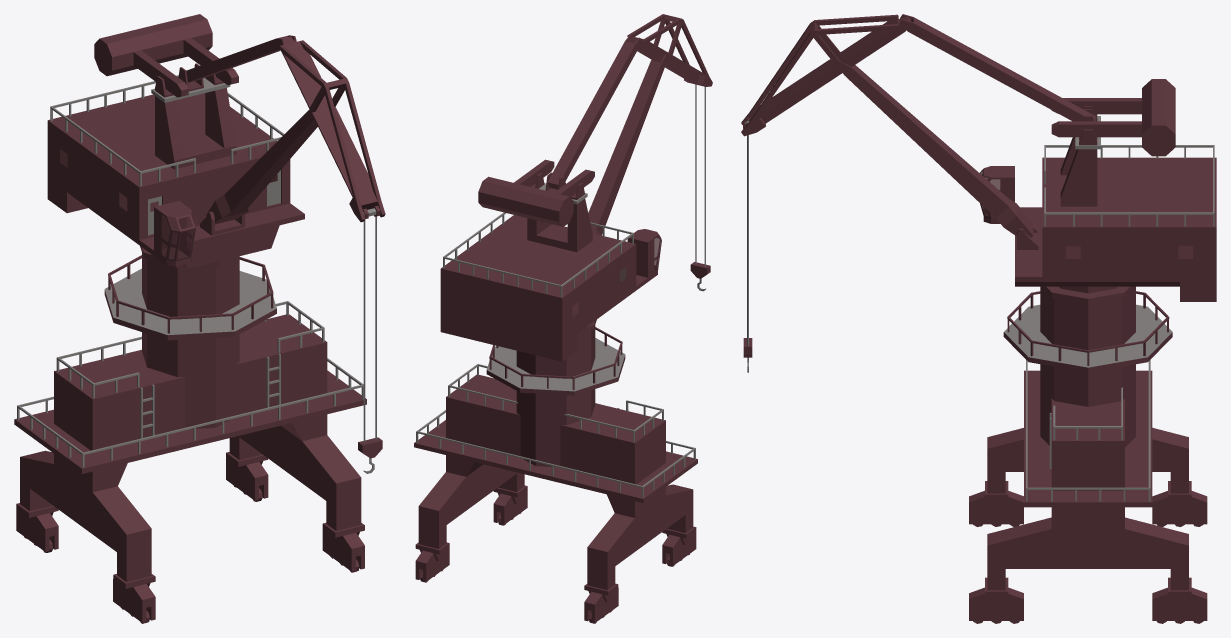
Rendered from crane-docks.fbx.
The picture shows the model from 3 angles, left to right: view 1: azimuth 30°, elevation 25°; view 2: azimuth 150°, elevation 25°; view 3: azimuth 270°, elevation 25°; orthographic projection. The views are drawn at different scales.
Visible parts, largest first — view 1: crane-docks-base, crane-docks-top, crane-docks-arm-tip, crane-docks-arm-main, crane-docks-hook, crane-docks-arm-back; view 2: crane-docks-base, crane-docks-top, crane-docks-arm-main, crane-docks-arm-back, crane-docks-arm-tip, crane-docks-hook; view 3: crane-docks-base, crane-docks-top, crane-docks-arm-tip, crane-docks-arm-main, crane-docks-arm-back.
Boxes of the visible parts, x1,y1,x2,y2 form: crane-docks-base: (14,246,366,623); crane-docks-top: (47,14,304,268); crane-docks-arm-tip: (279,36,385,222); crane-docks-arm-main: (206,109,317,224); crane-docks-hook: (358,216,382,473); crane-docks-arm-back: (186,35,296,82); crane-docks-base: (414,319,697,623); crane-docks-top: (440,159,661,361); crane-docks-arm-main: (588,55,667,235); crane-docks-arm-back: (547,35,641,189); crane-docks-arm-tip: (627,14,712,86); crane-docks-hook: (690,84,710,291); crane-docks-base: (969,286,1207,623); crane-docks-top: (980,79,1216,301); crane-docks-arm-tip: (741,14,910,136); crane-docks-arm-main: (838,63,1033,237); crane-docks-arm-back: (900,14,1095,121).
Bounding box in the file's own units: 17 × 33.56 × 25.92.
